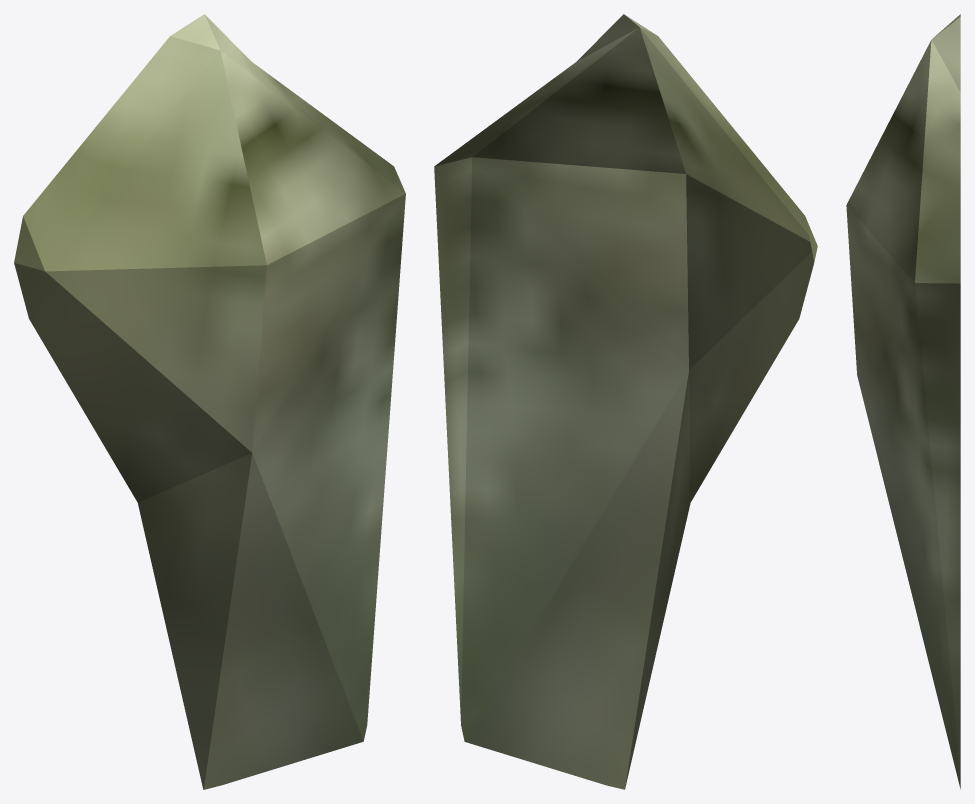
3 views of the same model, side by side, from view 1: azimuth 30°, elevation 25°; view 2: azimuth 150°, elevation 25°; view 3: azimuth 270°, elevation 25° (orthographic). The views are drawn at different scales.
Size of the model in its own units: 0.1673 by 0.3262 by 0.0475.
Materials: 1 (1 with a texture image).
